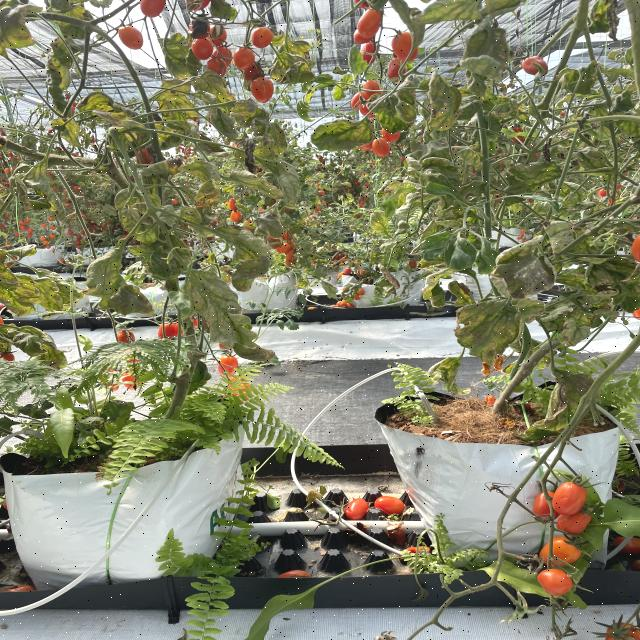Obstacle: (7, 434, 214, 620)
Soilbag: (368, 393, 633, 552), (5, 418, 248, 585)
plant: (376, 105, 628, 426), (83, 116, 210, 416)
